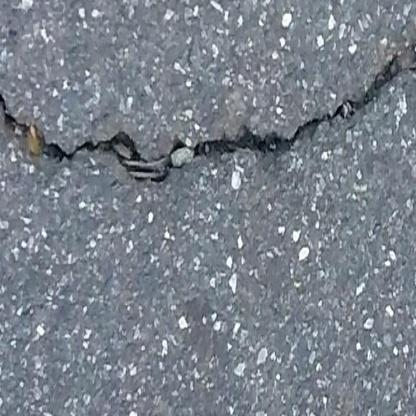Cracks: (0, 39, 416, 189)
